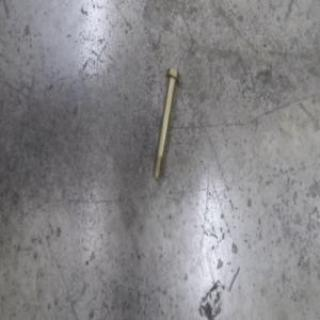Bolttrack_idkeyframe: (151, 65, 180, 181)
